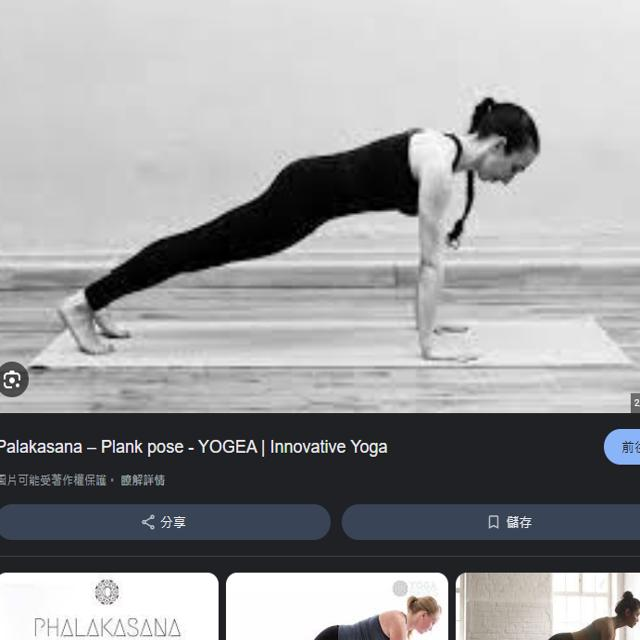Plank_Pose: (51, 89, 549, 362)
